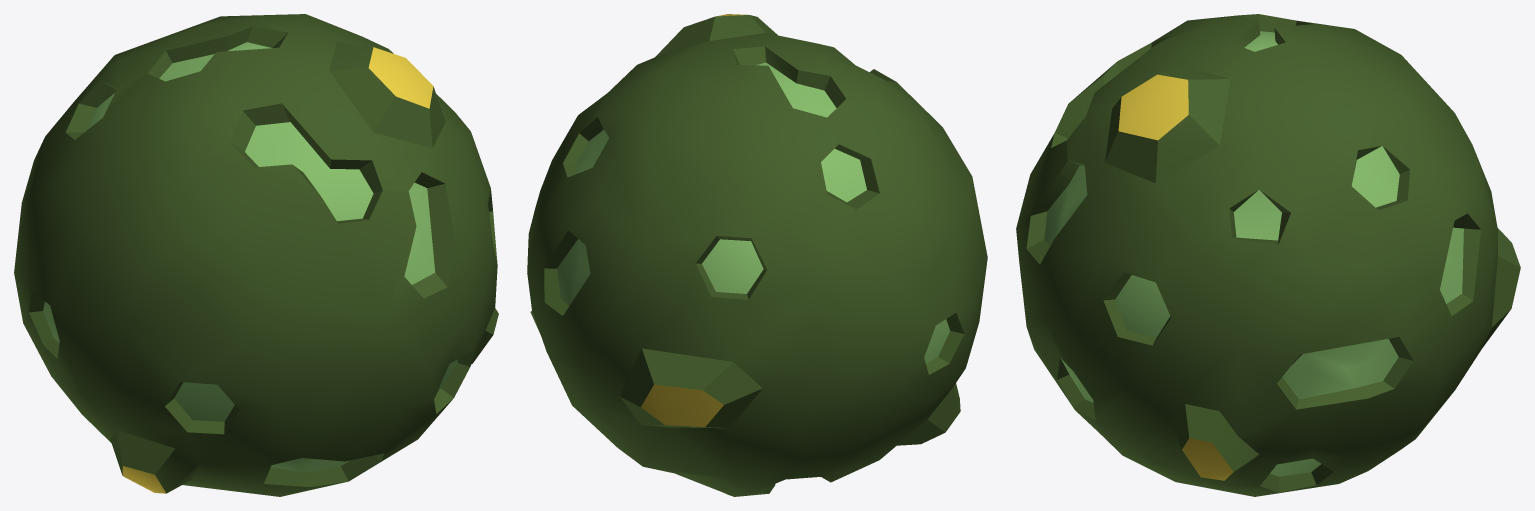
The model's file is Planeta_1.fbx.
3 views of the same model, side by side, from view 1: azimuth 30°, elevation 25°; view 2: azimuth 150°, elevation 25°; view 3: azimuth 270°, elevation 25° (orthographic). The views are drawn at different scales.
Visible parts, largest first — view 1: Toy_Planet_2; view 2: Toy_Planet_2; view 3: Toy_Planet_2.
Part boxes in pixels (<box>): Toy_Planet_2: <box>14,14,498,496</box>; Toy_Planet_2: <box>527,14,987,496</box>; Toy_Planet_2: <box>1016,14,1520,496</box>.
Bounding box in the file's own units: 201 × 200 × 210.
